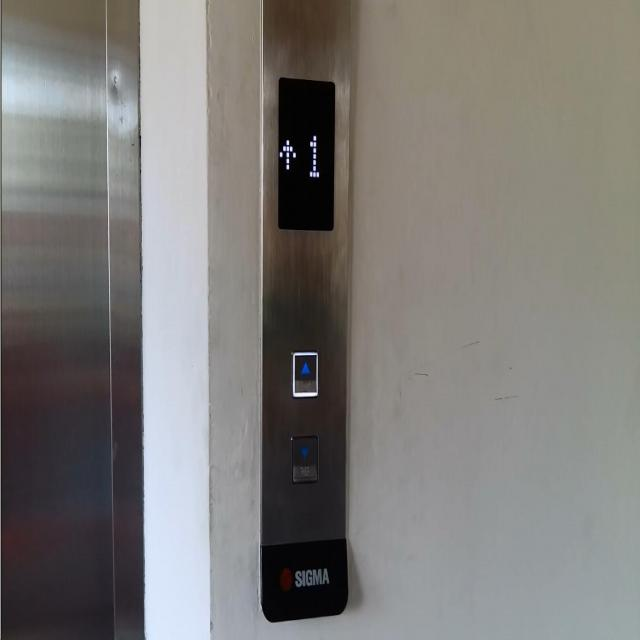down: (291, 433, 319, 485)
led: (277, 74, 335, 234)
up: (291, 348, 318, 399)
